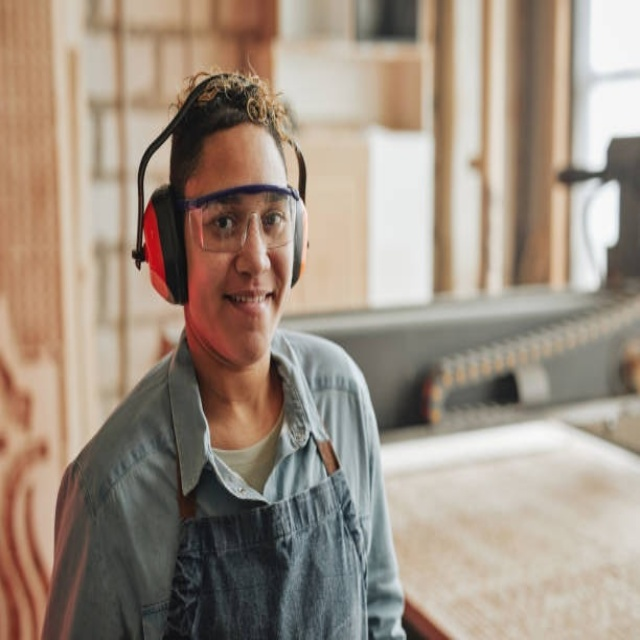Gafas: (176, 187, 304, 254)
Sin_mascara: (215, 276, 281, 344)
